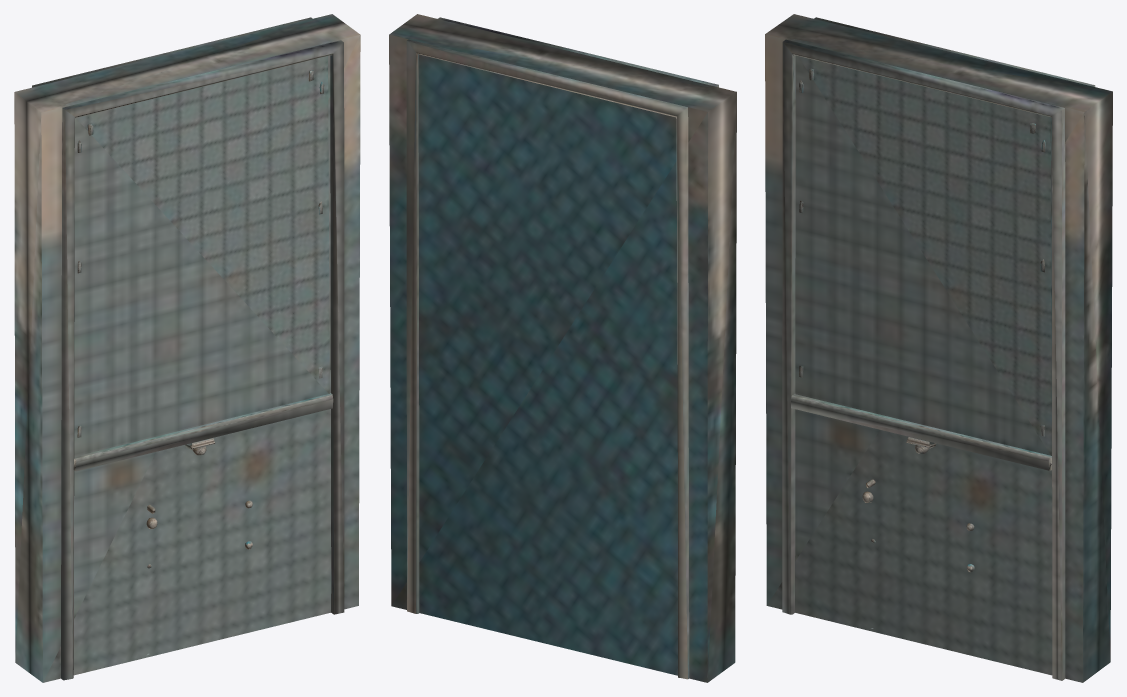
File: bathhouse-wall-v3.glb
3 views of the same model, side by side, from view 1: azimuth 30°, elevation 25°; view 2: azimuth 150°, elevation 25°; view 3: azimuth 330°, elevation 25° (orthographic).
Visible parts, largest first — view 1: bathhouse-wall-v3; view 2: bathhouse-wall-v3; view 3: bathhouse-wall-v3.
Boxes of the visible parts, <box> form: bathhouse-wall-v3: <box>14,14,360,682</box>; bathhouse-wall-v3: <box>389,14,736,682</box>; bathhouse-wall-v3: <box>765,14,1112,682</box>.
Bounding box in the file's own units: 0.5854 × 1 × 0.1181.
Materials: 1 (1 with a texture image).
